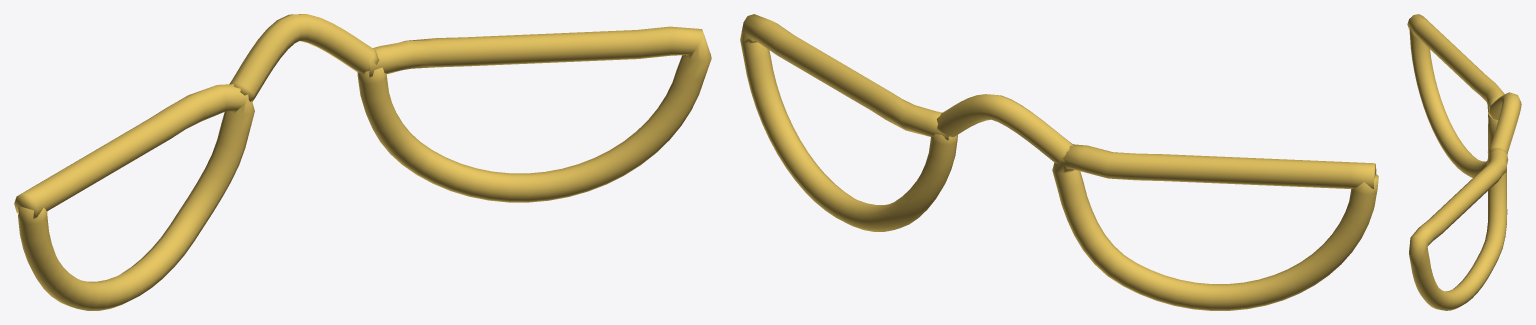
File: half_moon_glasses.glb
3 renders of one model, left to right at view 1: azimuth 30°, elevation 25°; view 2: azimuth 150°, elevation 25°; view 3: azimuth 270°, elevation 25°, orthographic. The views are drawn at different scales.
Visible parts, largest first — view 1: Accessory; view 2: Accessory; view 3: Accessory.
Part boxes in pixels (box(x1,y1,x2,y2)): Accessory: box(14, 14, 711, 310); Accessory: box(740, 14, 1378, 310); Accessory: box(1407, 14, 1521, 310).
Bounding box in the file's own units: 0.2604 × 0.0754 × 0.0558.
